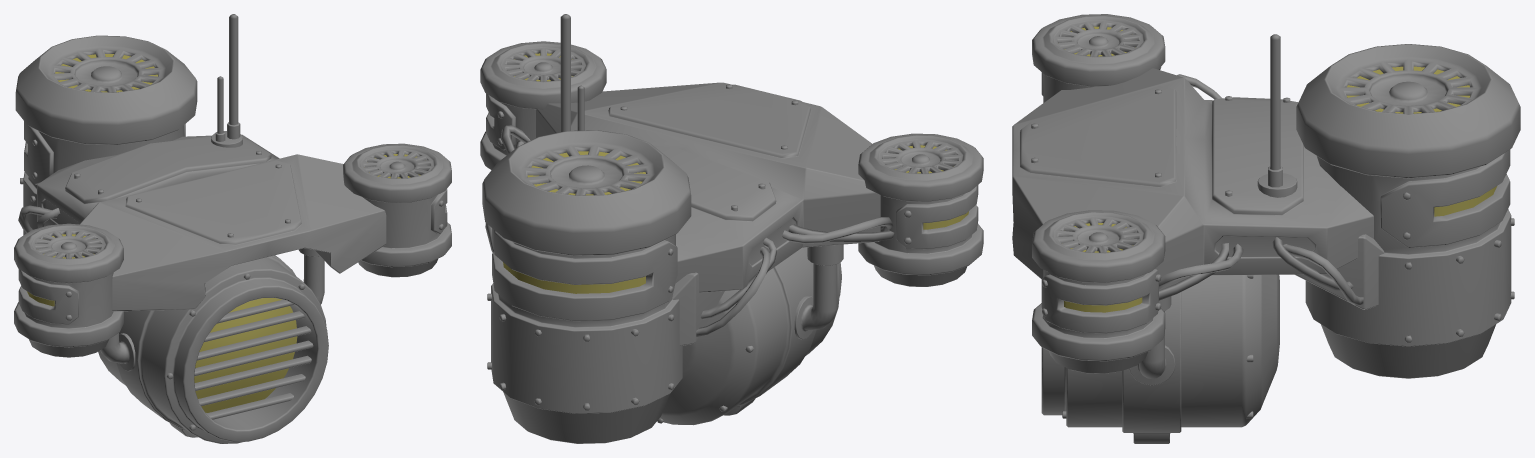
File: drone_spotlight.fbx
3 views of the same model, side by side, from view 1: azimuth 30°, elevation 25°; view 2: azimuth 150°, elevation 25°; view 3: azimuth 270°, elevation 25° (orthographic). The views are drawn at different scales.
Visible parts, largest first — view 1: drone_spotlight_body_, drone_spotlight_cylinder_, drone_light_, drone_spotlight_emission_; view 2: drone_spotlight_body_, drone_spotlight_cylinder_, drone_spotlight_emission_; view 3: drone_spotlight_body_, drone_spotlight_cylinder_, drone_spotlight_emission_.
Part boxes in pixels (<box>): drone_spotlight_body_: <box>14,14,451,371</box>; drone_spotlight_cylinder_: <box>98,255,328,443</box>; drone_light_: <box>194,298,297,412</box>; drone_spotlight_emission_: <box>27,54,420,306</box>; drone_spotlight_body_: <box>480,14,983,443</box>; drone_spotlight_cylinder_: <box>657,247,841,425</box>; drone_spotlight_emission_: <box>503,53,968,293</box>; drone_spotlight_body_: <box>1012,14,1520,385</box>; drone_spotlight_cylinder_: <box>1041,274,1279,443</box>; drone_spotlight_emission_: <box>1064,26,1496,312</box>.
Bounding box in the file's own units: 340 × 277 × 289.
